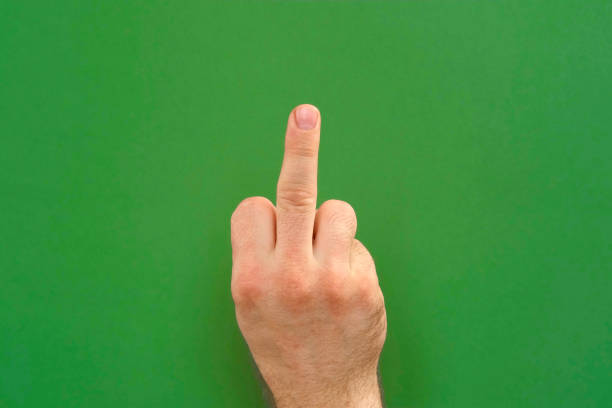insulting_gesture: (229, 101, 388, 408)
